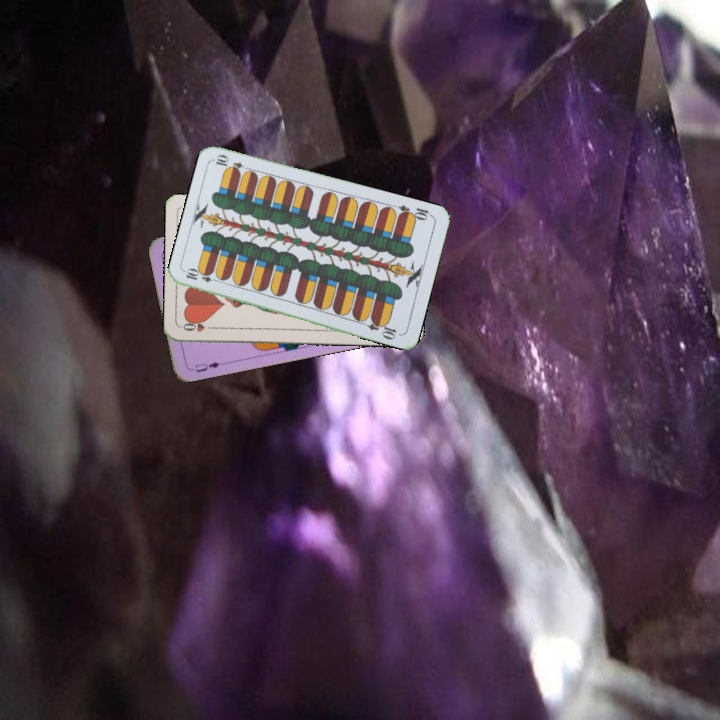E10: (394, 201, 435, 223), (182, 266, 222, 285)
EU: (191, 358, 227, 375)
HO: (179, 318, 219, 334)
